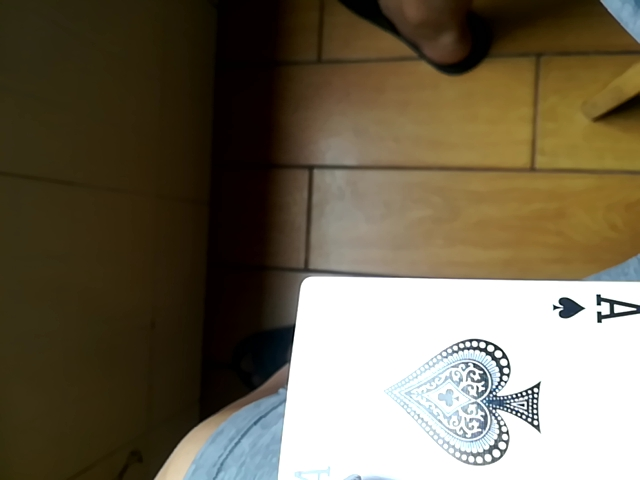ht a: (277, 271, 640, 478)
